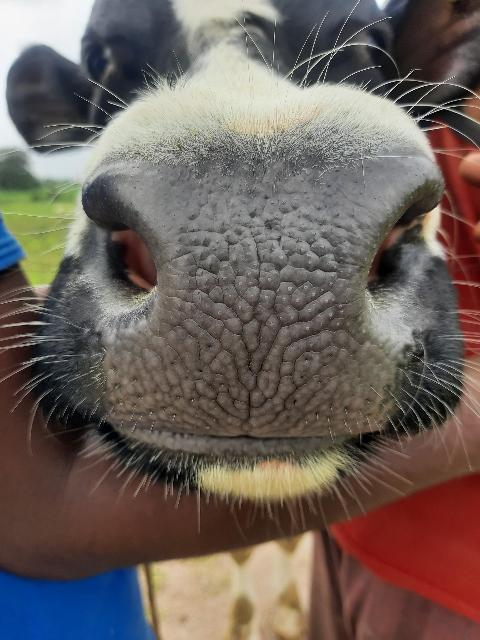Muzzle: (105, 168, 386, 434)
